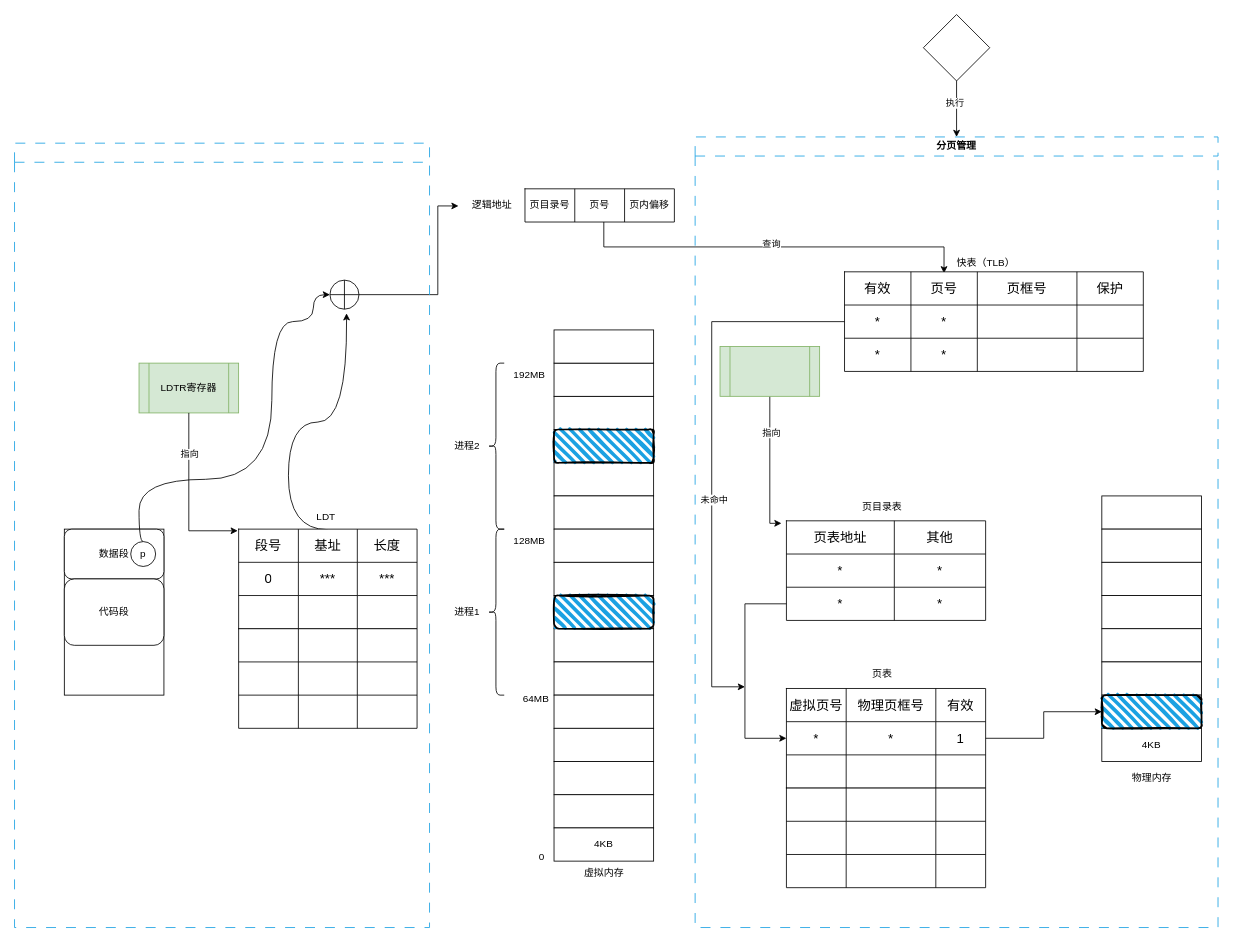
This 1233x942 diagram has some shape labels left out. Each missing label, with the box of its shape:
CR3寄存器: (719, 346, 820, 396)
MMU: (923, 14, 990, 81)
分段管理: (14, 142, 430, 928)
